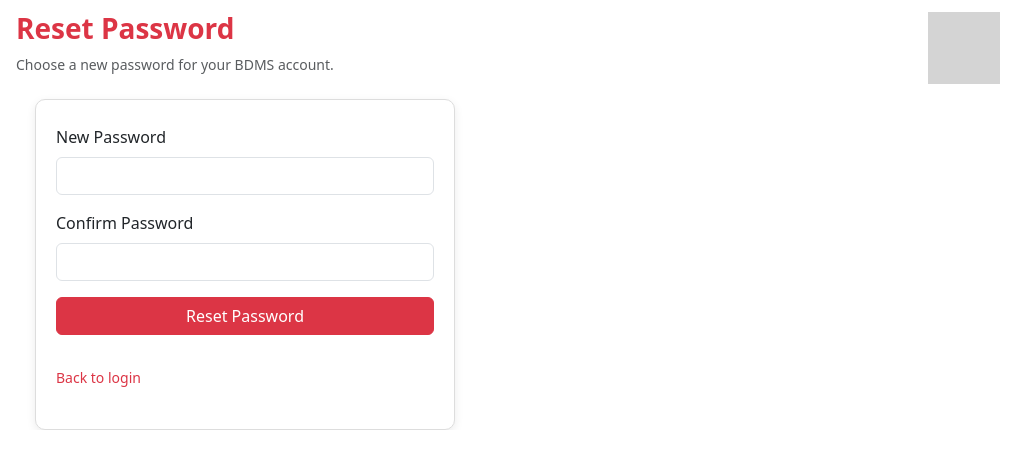
Test case: ResetPassword › shows criteria message when password rules are not met
Type "short" into the 1st password field at (245, 176), box [56,157,434,195]
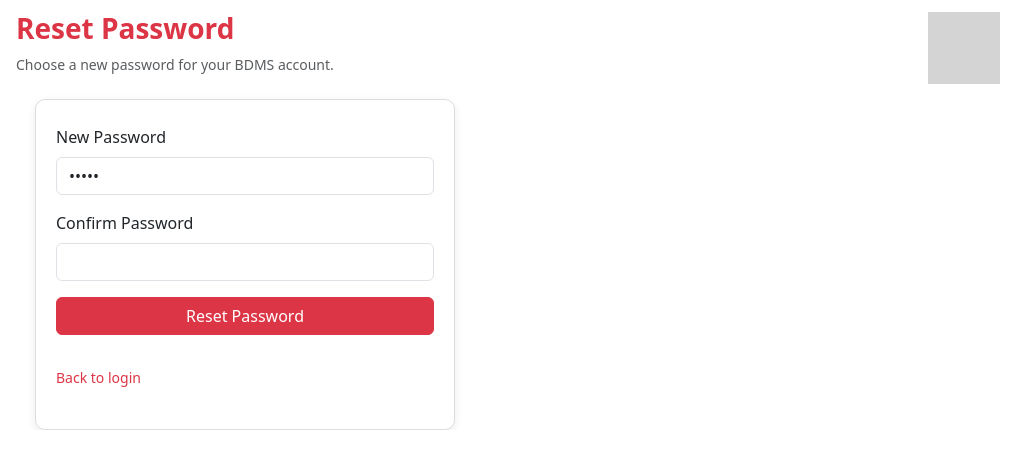
Type "short" into the password field below "Confirm Password" at (245, 262), box [56,243,434,281]
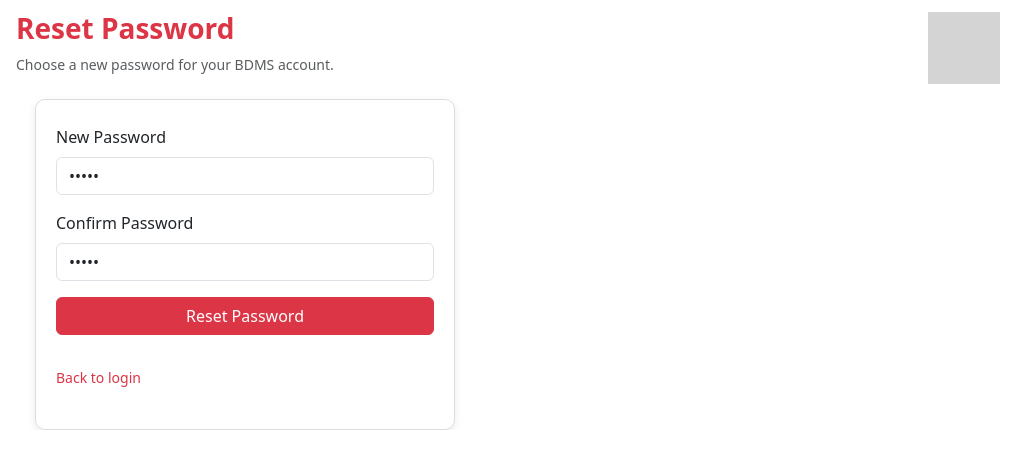
Submit the form, box [56,125,434,351]
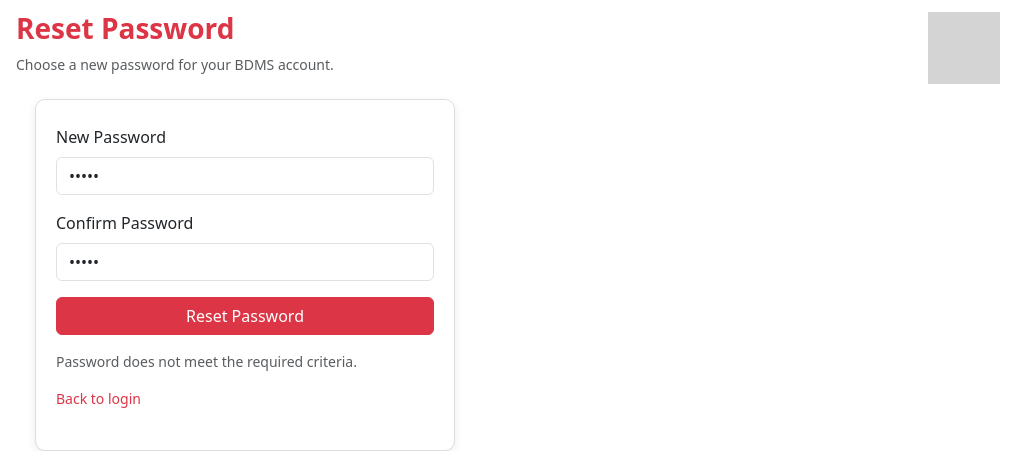
Check: the text "Password does not meet the required criteria." is shown, box [56,352,357,371]
